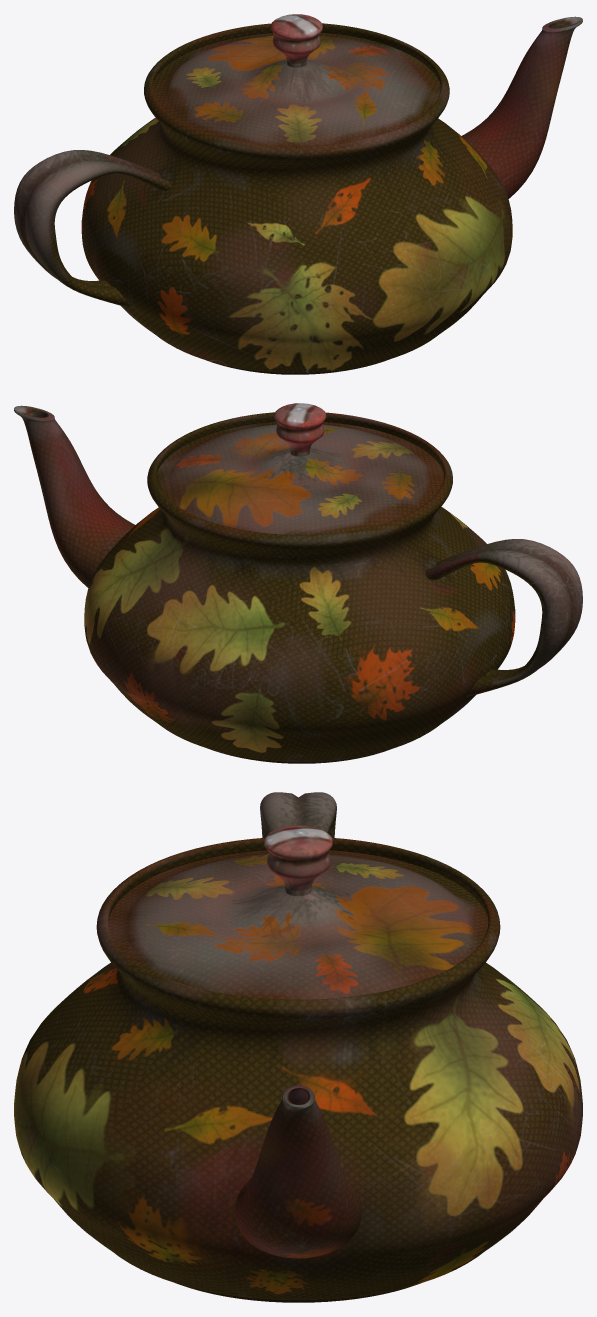
3 renders of one model, top to bottom at view 1: azimuth 30°, elevation 25°; view 2: azimuth 150°, elevation 25°; view 3: azimuth 270°, elevation 25°, orthographic. The views are drawn at different scales.
Bounding box in the file's own units: 614 × 316 × 408.
Materials: 1 (1 with a texture image).
